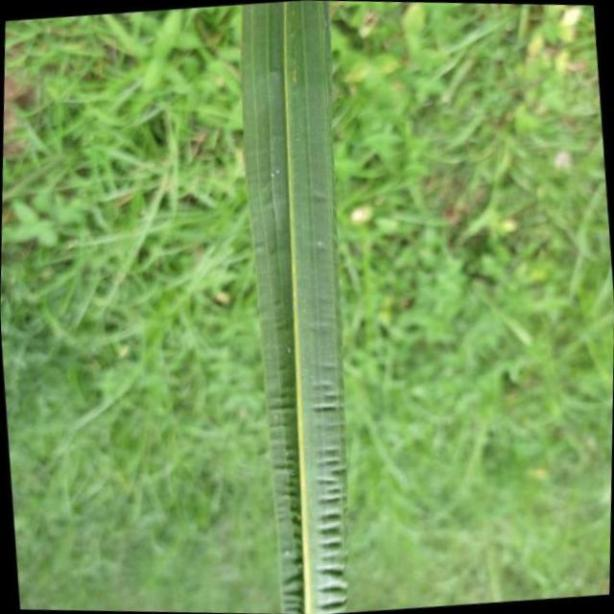Boron: (238, 3, 348, 614)
